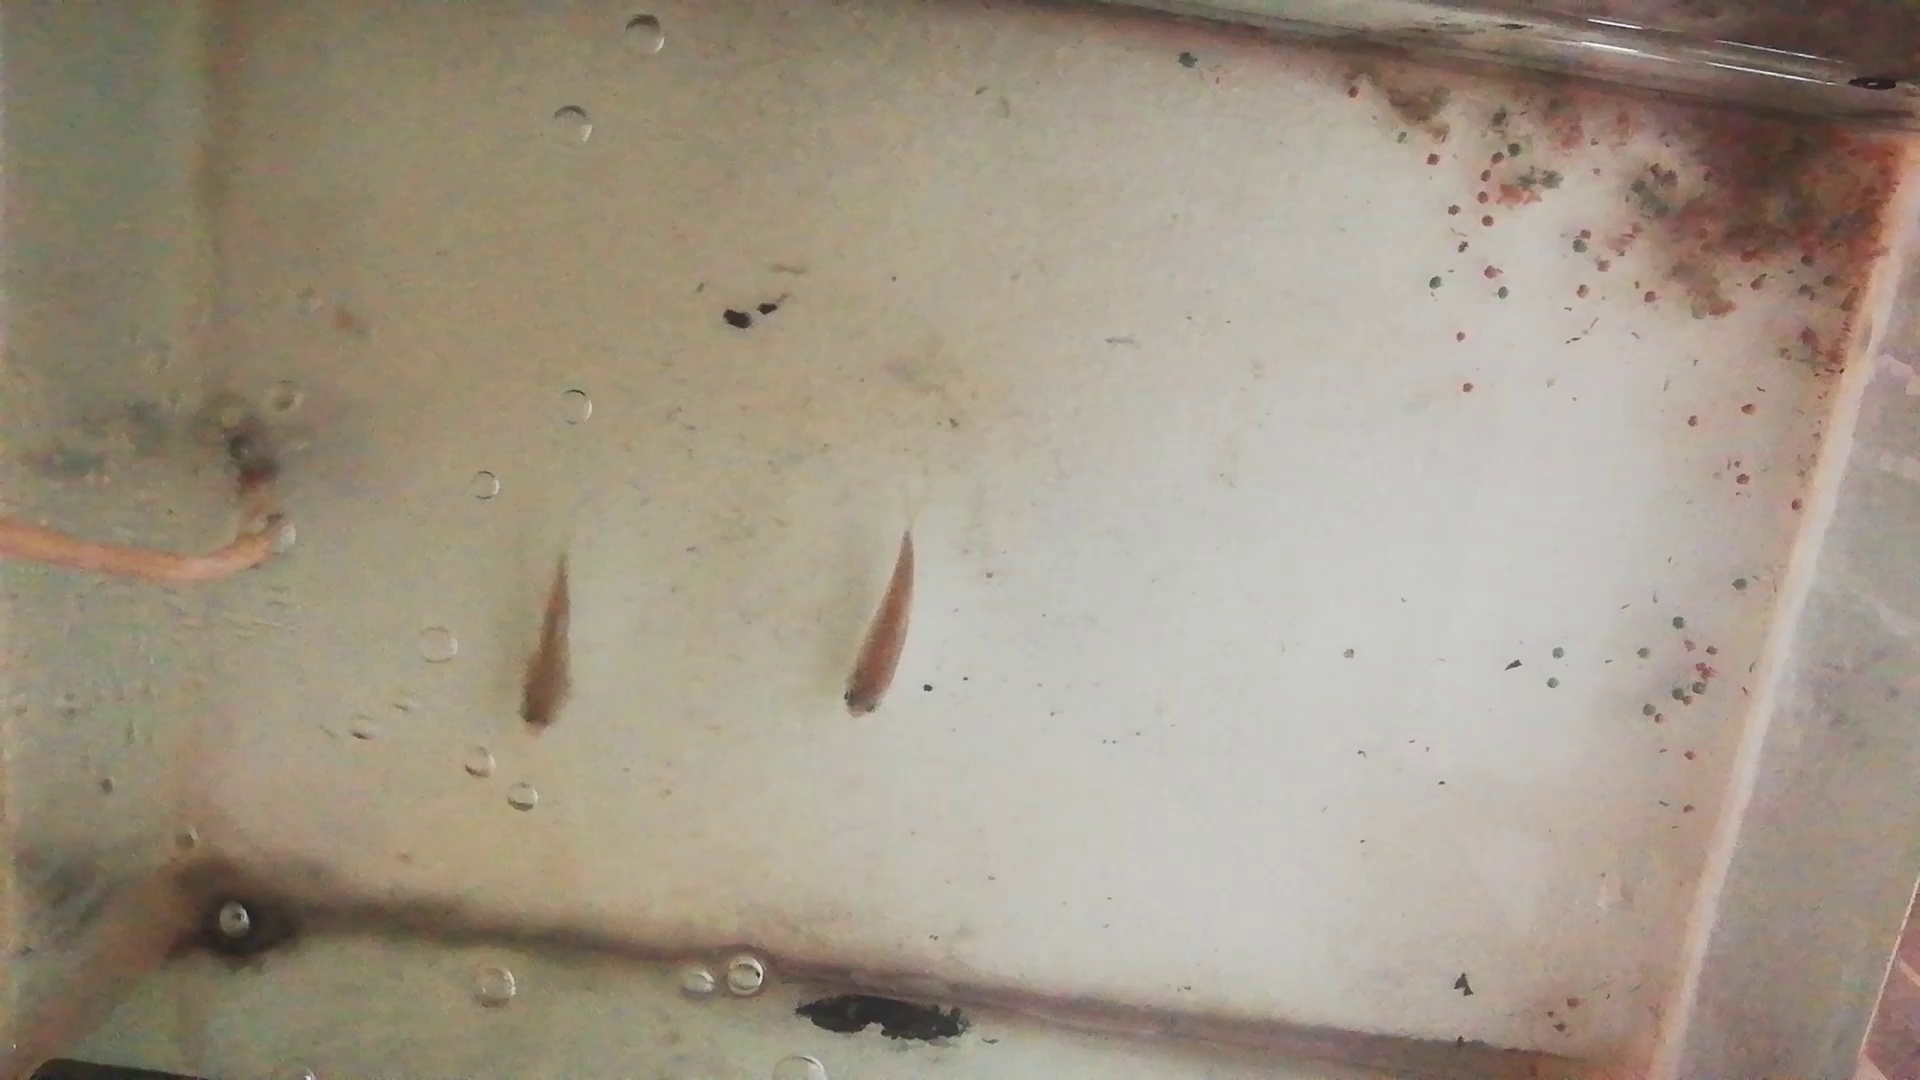fish: (840, 533, 918, 719), (512, 560, 576, 736)
